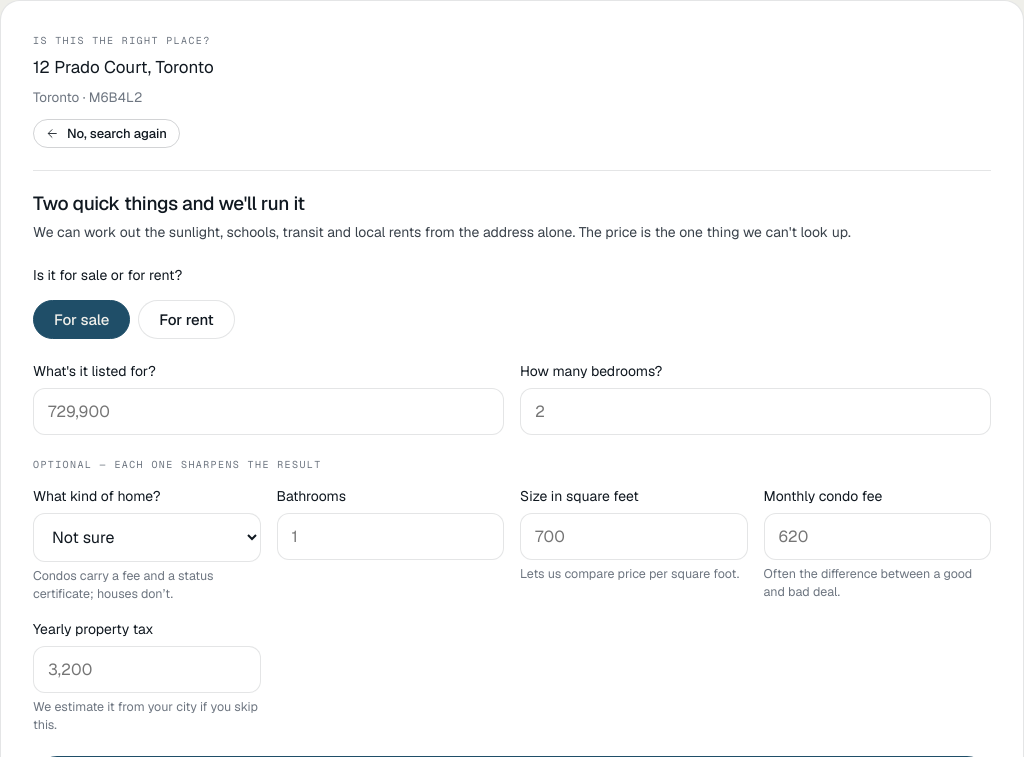
Test: AddressDetailsCard › does not ask a renter for the condo fee or property tax
Check: the field labelled "Monthly condo fee" is shown, box top-left (764, 513), bottom-right (991, 560)
Click the button "For rent": (186, 320) top-left (138, 300), bottom-right (235, 339)
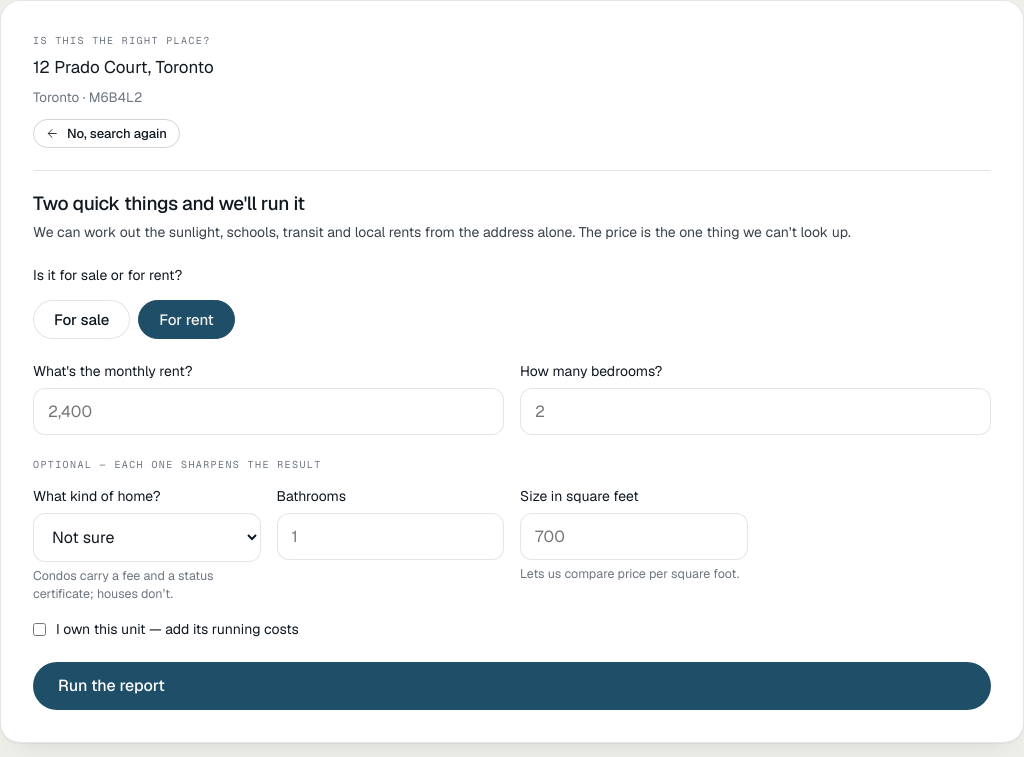
Check: the label labelled "Monthly condo fee" is gone
Check: the label labelled "Yearly property tax" is gone
Check: the checkbox labelled "I own this unit — add its running costs" is shown, box top-left (33, 623), bottom-right (46, 636)
